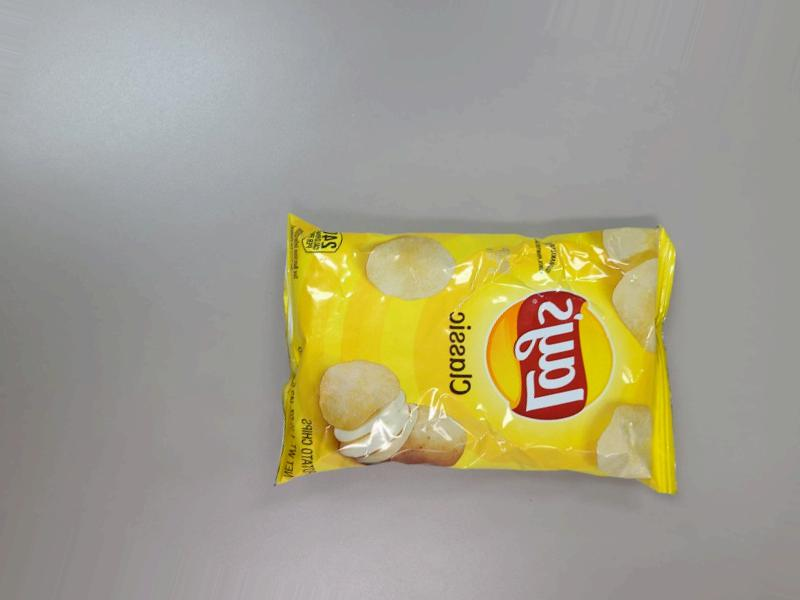lays: (264, 233, 673, 519)
